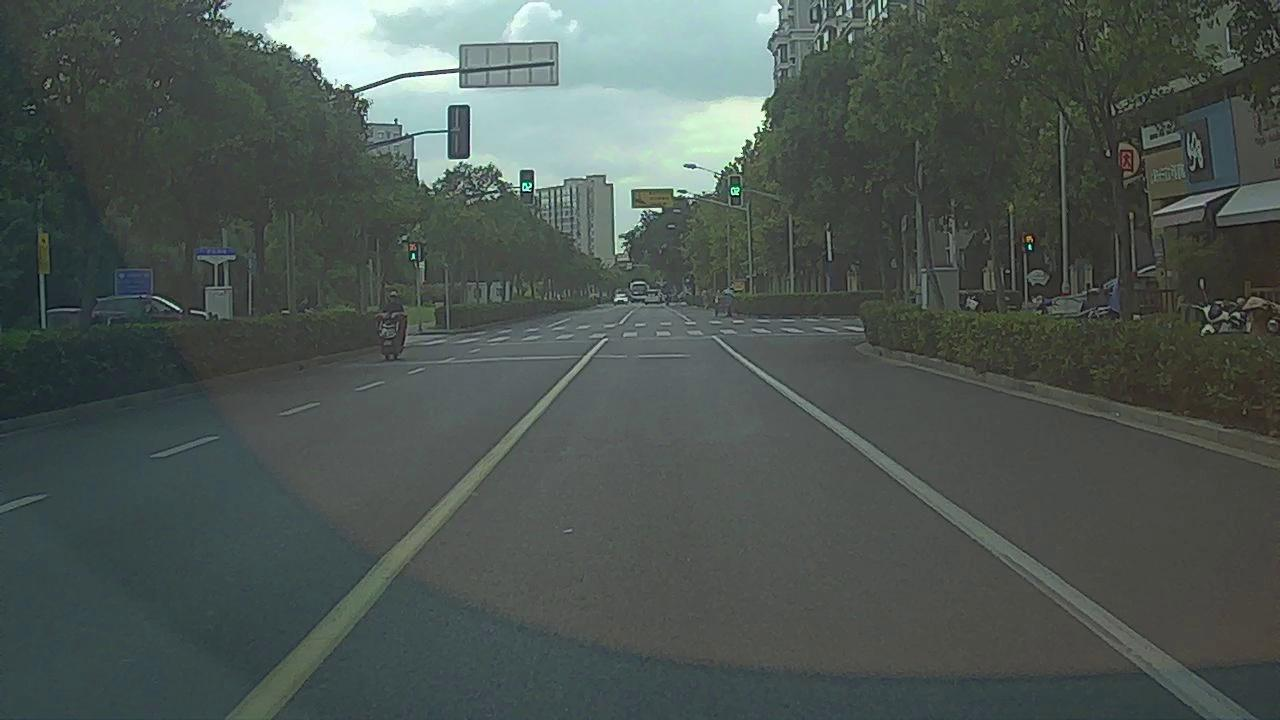traffic_light: (519, 169, 534, 205), (729, 176, 741, 206)
